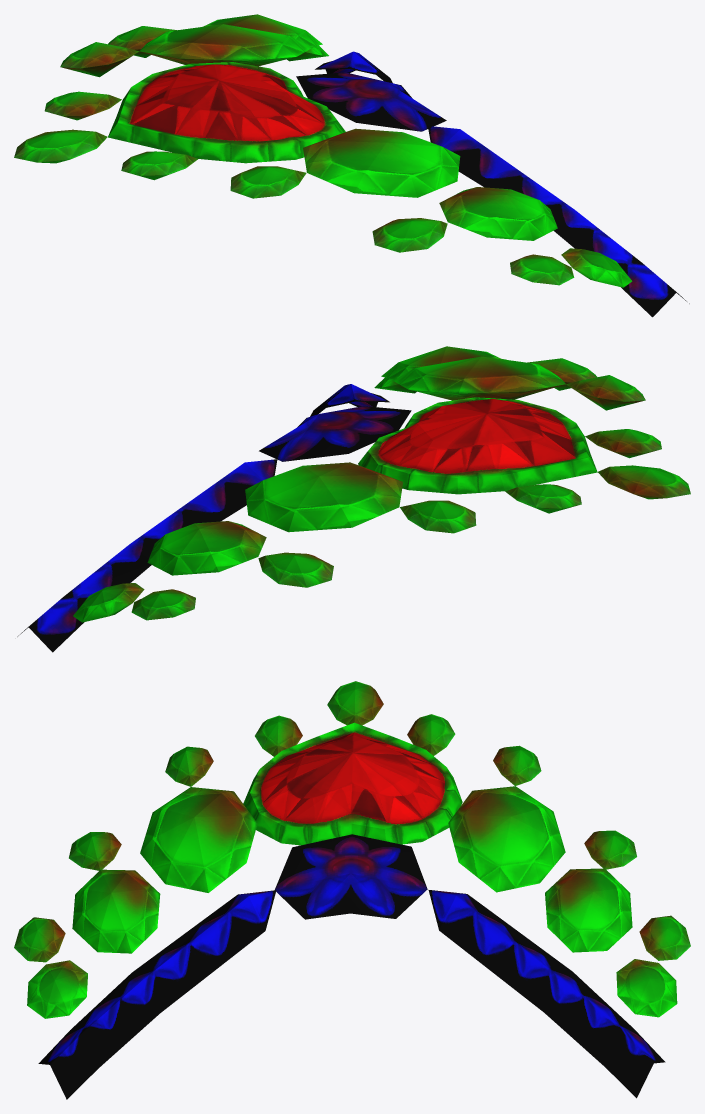
3 views of the same model, one above another, from view 1: azimuth 30°, elevation 25°; view 2: azimuth 150°, elevation 25°; view 3: azimuth 270°, elevation 25° (orthographic). The views are drawn at different scales.
Parts seen in each view (by area): view 1: C1268; view 2: C1268; view 3: C1268.
Part boxes in pixels (x1,y1,x2,y2): C1268: (14, 14, 689, 317); C1268: (17, 346, 690, 652); C1268: (14, 681, 690, 1099).
Bounding box in the file's own units: 0.1577 × 0.0561 × 0.179.
